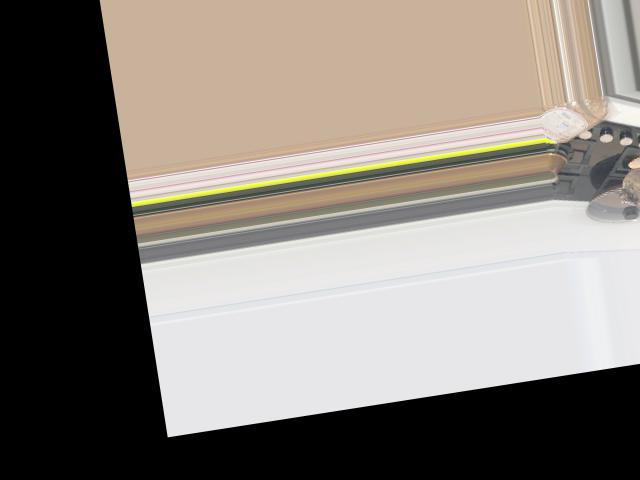beet: (615, 161, 640, 206)
